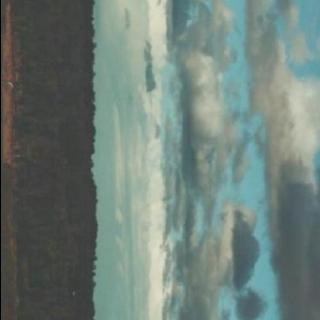Stratocumulus: (113, 0, 320, 320)
